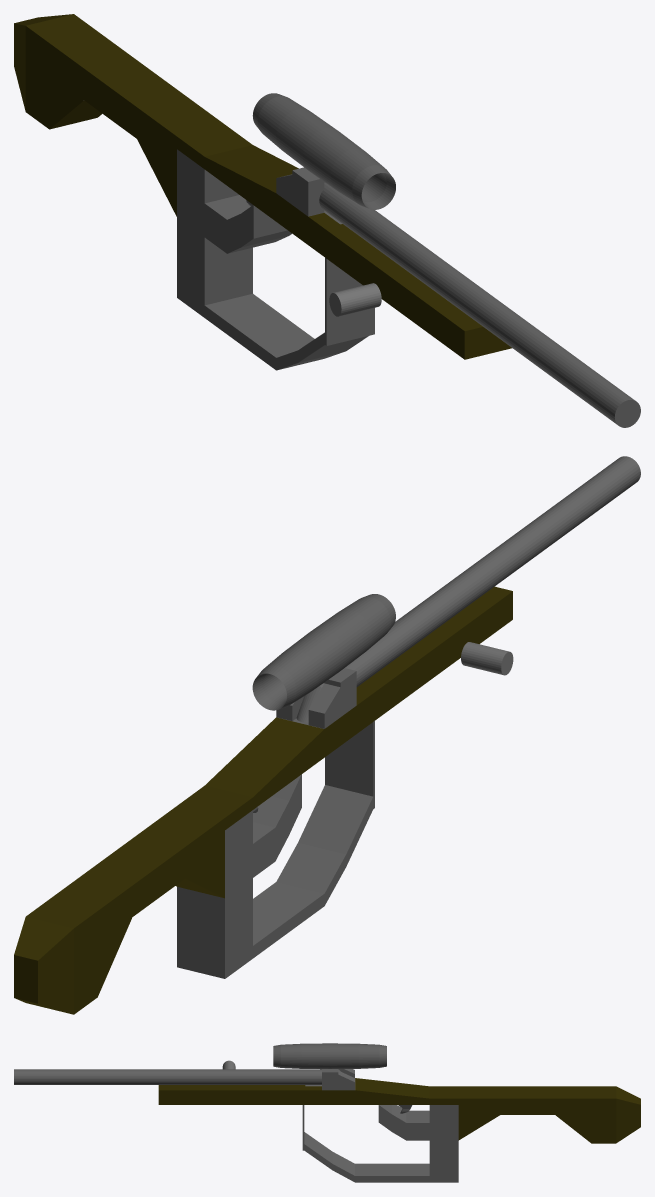
File: SilentDeath.fbx
3 renders of one model, top to bottom at view 1: azimuth 30°, elevation 25°; view 2: azimuth 150°, elevation 25°; view 3: azimuth 270°, elevation 25°, orthographic. The views are drawn at different scales.
Parts seen in each view (by area): view 1: Cube, Cylinder; view 2: Cube, Cylinder; view 3: Cube.
Boxes of the visible parts, x1,y1,x2,y2 form: Cube: (14,14,640,427); Cylinder: (329,283,381,316); Cube: (14,456,640,1014); Cylinder: (461,642,513,675); Cube: (14,1043,640,1182).
Bounding box in the file's own units: 30.39 × 66.79 × 288.
